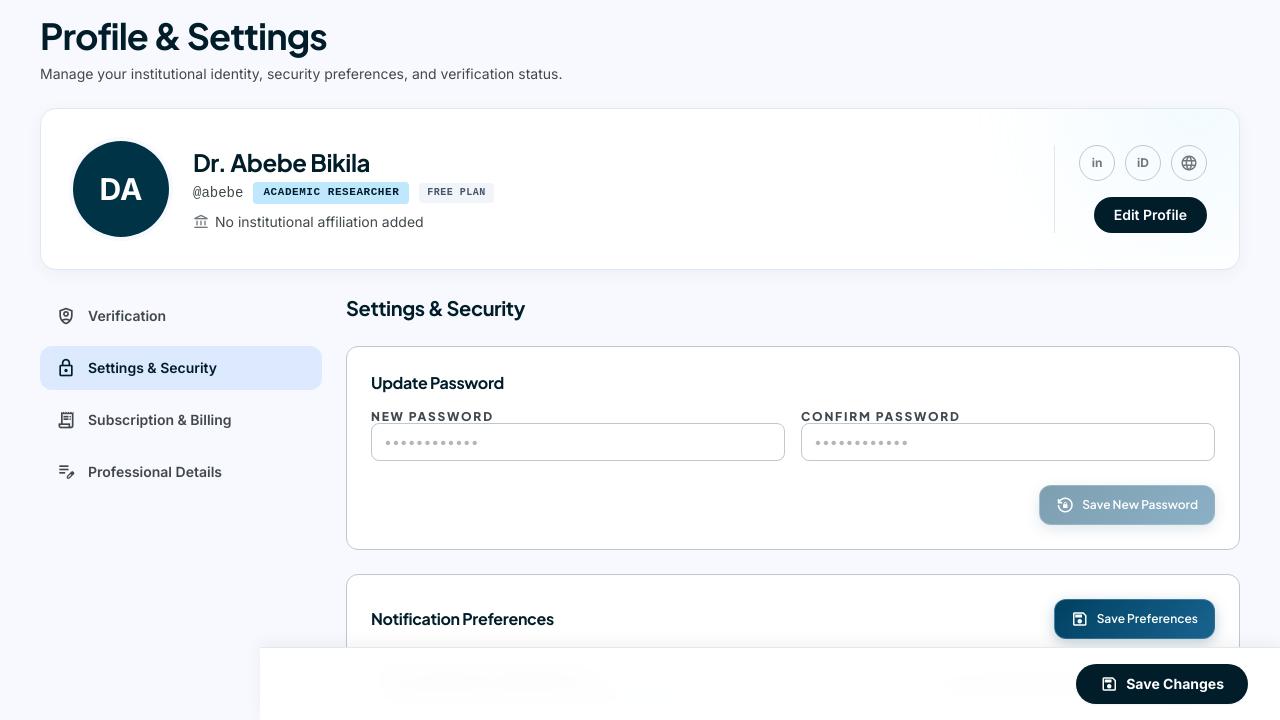
Test: ResearcherProfilePage (REH-121: Password Update) › submits new_password to /auth/update-password and displays success banner
This screenshot has width=1280, height=720.
// Navigate to Settings tab if not already active
Click the button "Settings & Security" at (181, 368), box [40,346,322,390]
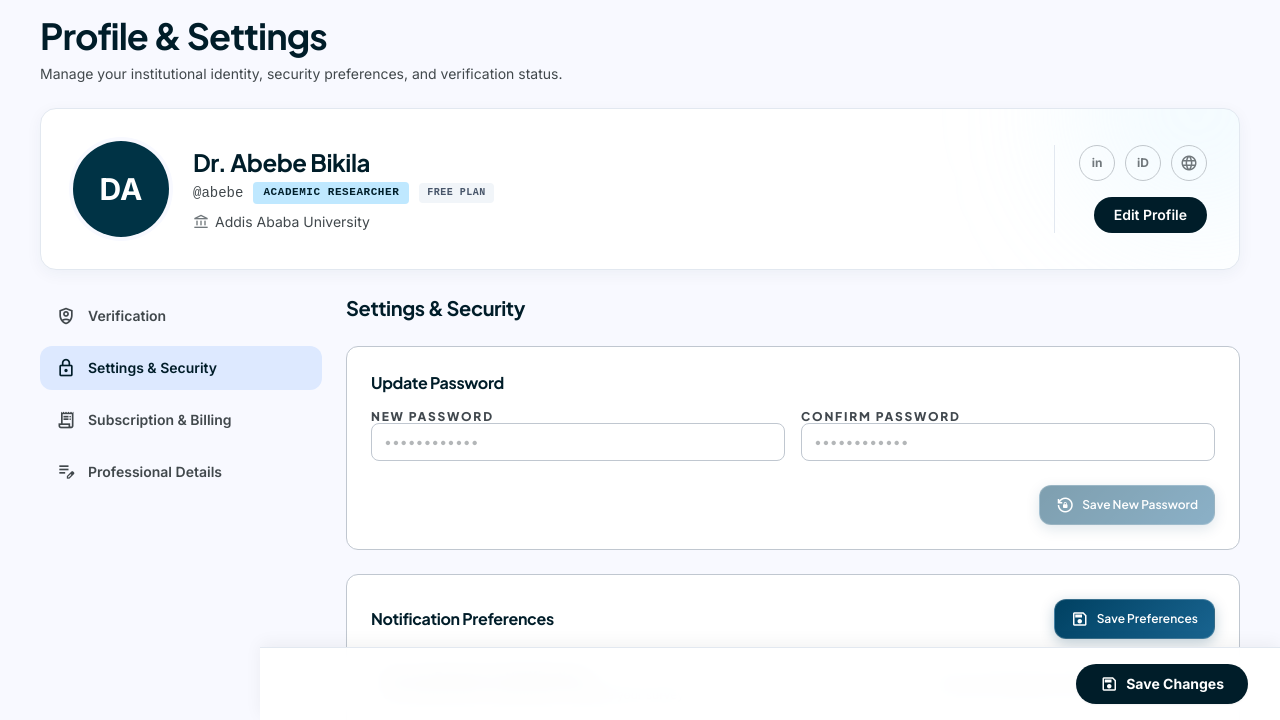
Type "MySecurePassword123" into the password field labelled "New Password" at (578, 442), box [371,423,785,461]
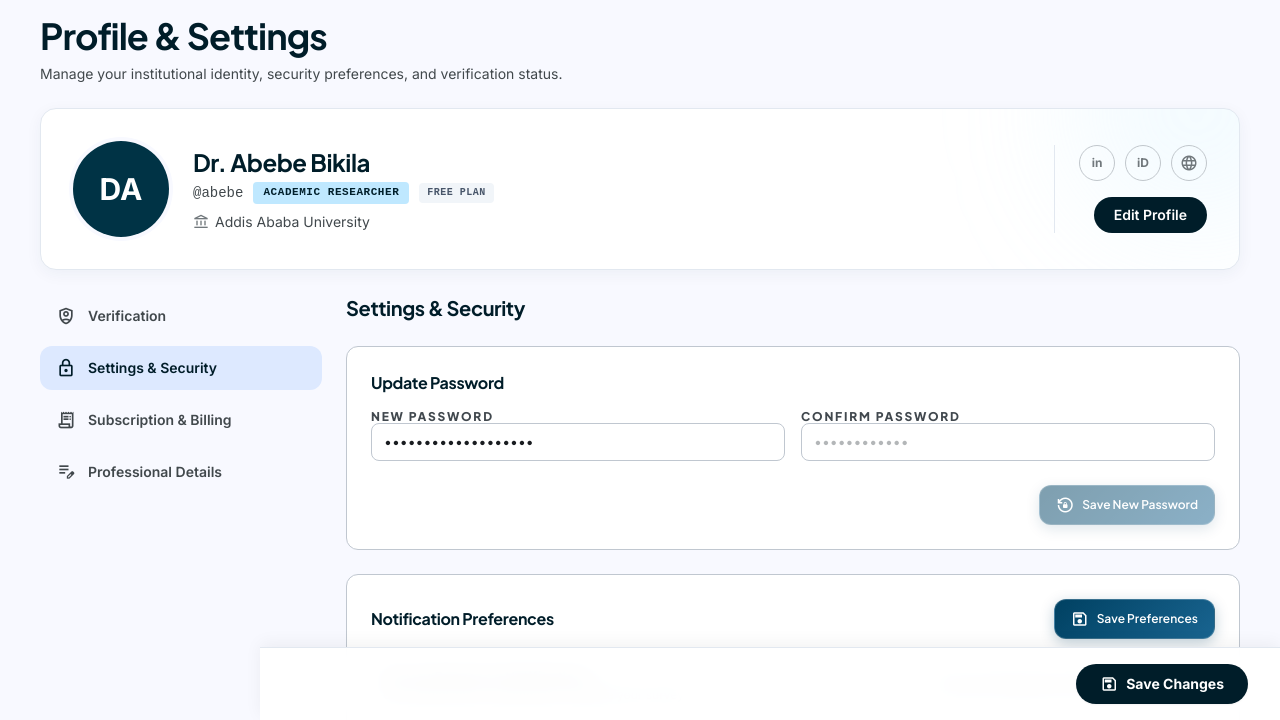
Type "MySecurePassword123" into the password field labelled "Confirm Password" at (1008, 442), box [801,423,1215,461]
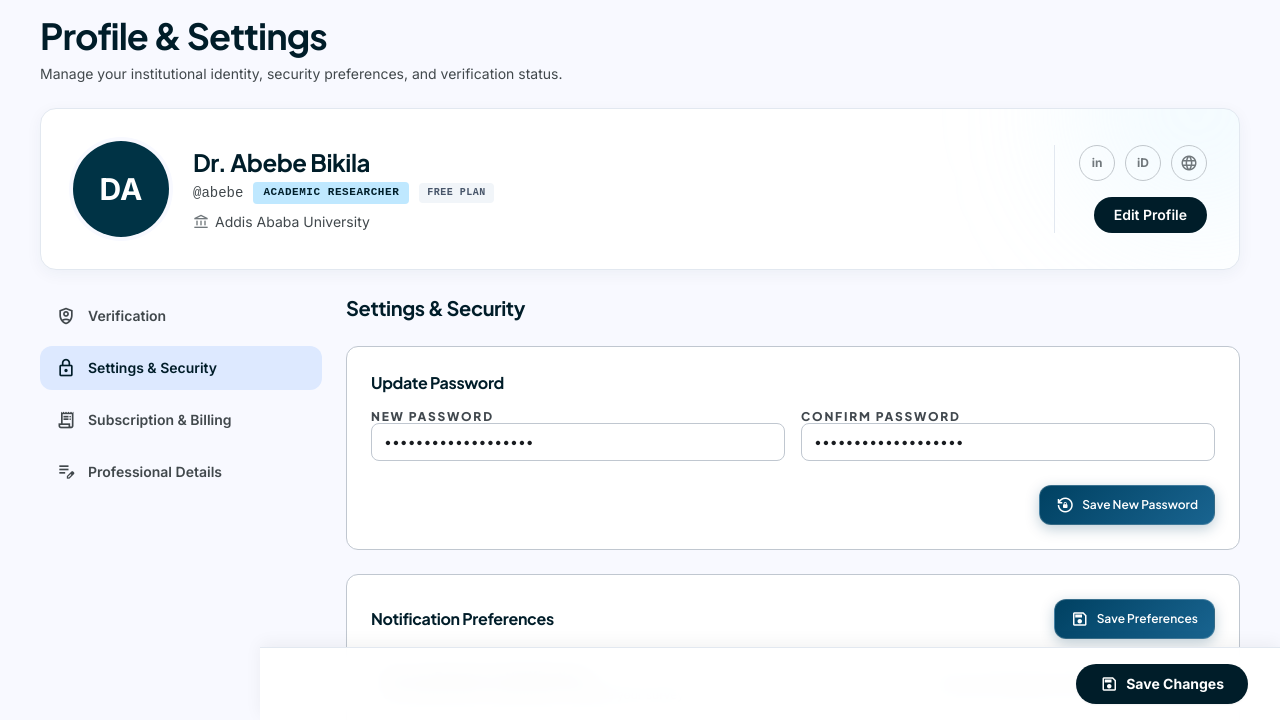
expect the button "Save New Password" is enabled: met
Click the button "Save New Password" at (1127, 505), box [1039,485,1215,525]
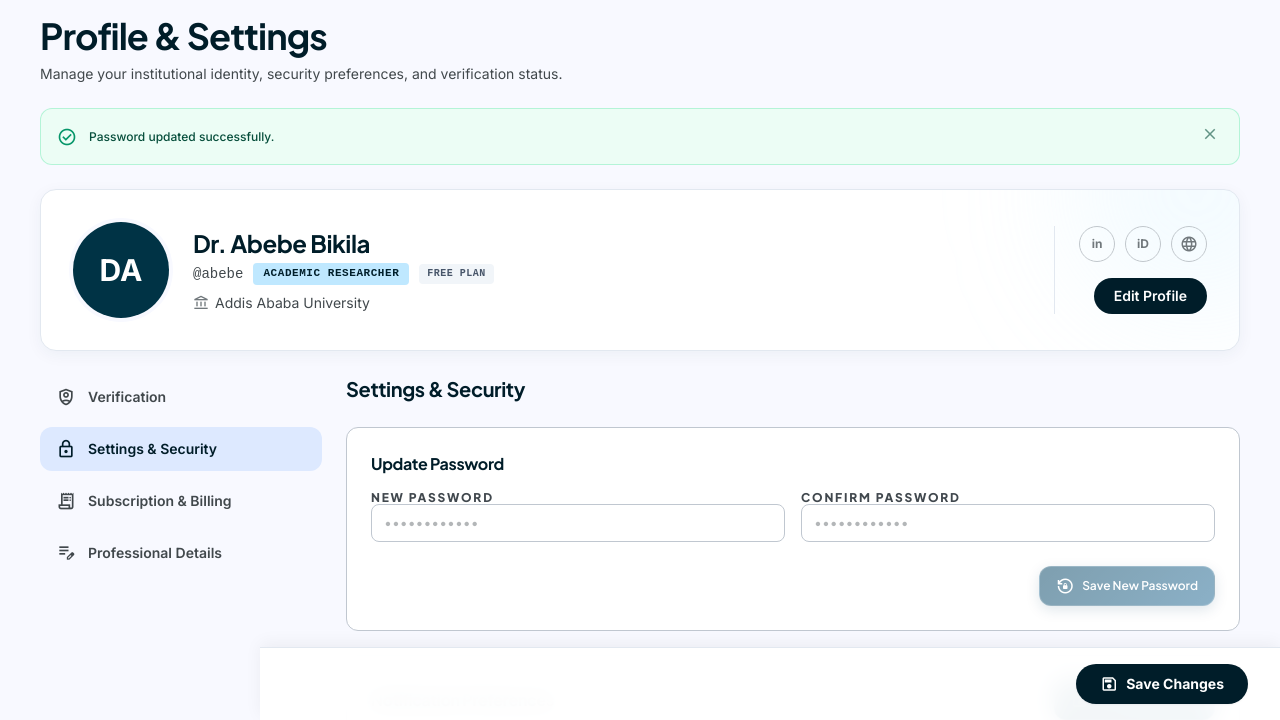
expect the text "Password updated successfully." is shown: met, box [89,129,274,144]
